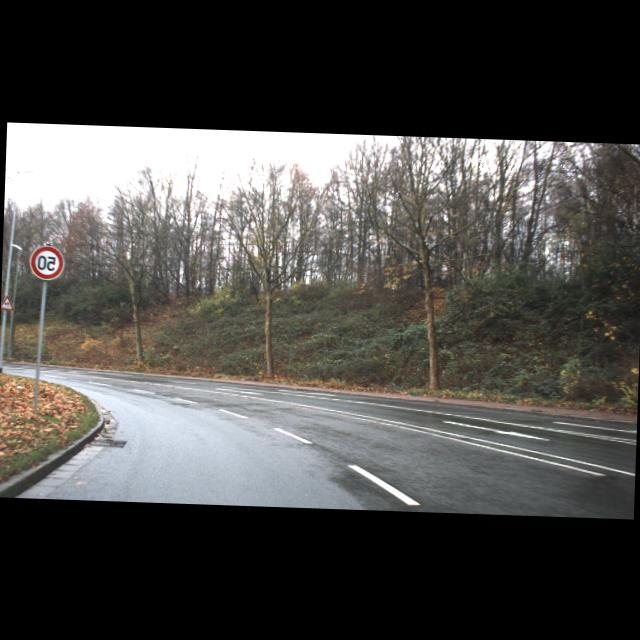danger: (0, 294, 15, 310)
prohibitory: (30, 243, 66, 278)
